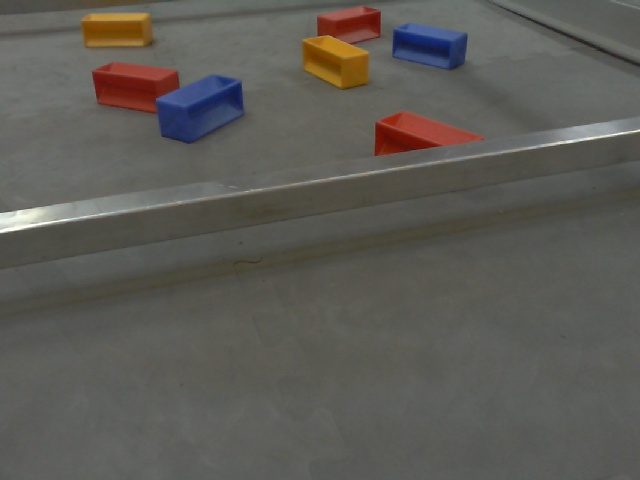BlueSample: (154, 72, 247, 148), (388, 20, 467, 72)
RedSample: (370, 106, 484, 158), (91, 59, 183, 116), (316, 5, 384, 44)
YellowSample: (298, 33, 374, 93), (79, 10, 155, 49)
